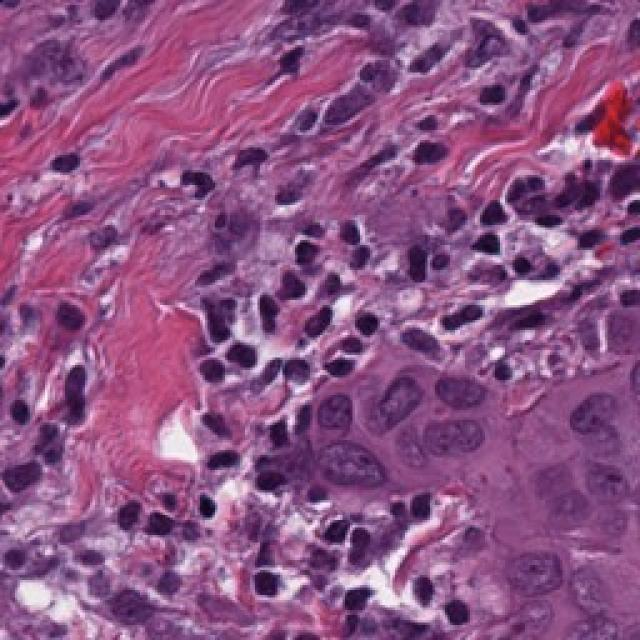abnormal: (481, 530, 579, 619), (545, 541, 627, 635), (533, 454, 610, 554), (310, 436, 404, 516), (410, 401, 493, 481), (552, 385, 640, 453), (356, 352, 421, 432)
